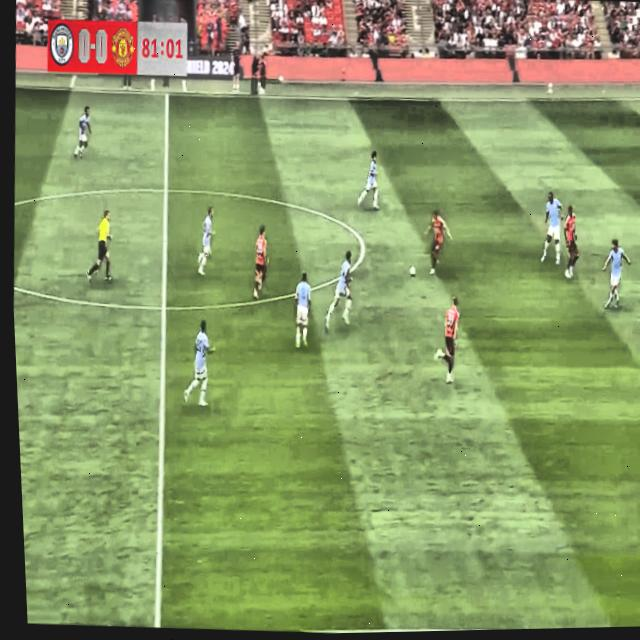ball: (407, 256, 421, 288)
players: (179, 312, 223, 418), (431, 296, 467, 391), (322, 248, 359, 334), (535, 186, 569, 271), (419, 202, 456, 279), (289, 269, 318, 361), (598, 237, 634, 310), (250, 218, 280, 305), (354, 136, 386, 213), (192, 206, 224, 282), (561, 208, 588, 281), (71, 103, 97, 161), (635, 478, 640, 530)
refree: (80, 200, 120, 291)
